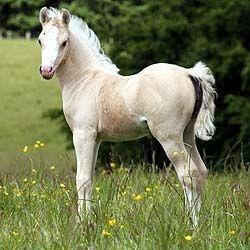horse: (36, 5, 217, 232)
